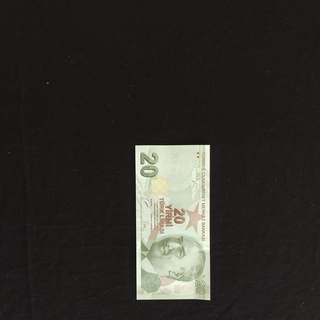20TLFront: (134, 143, 211, 301)
